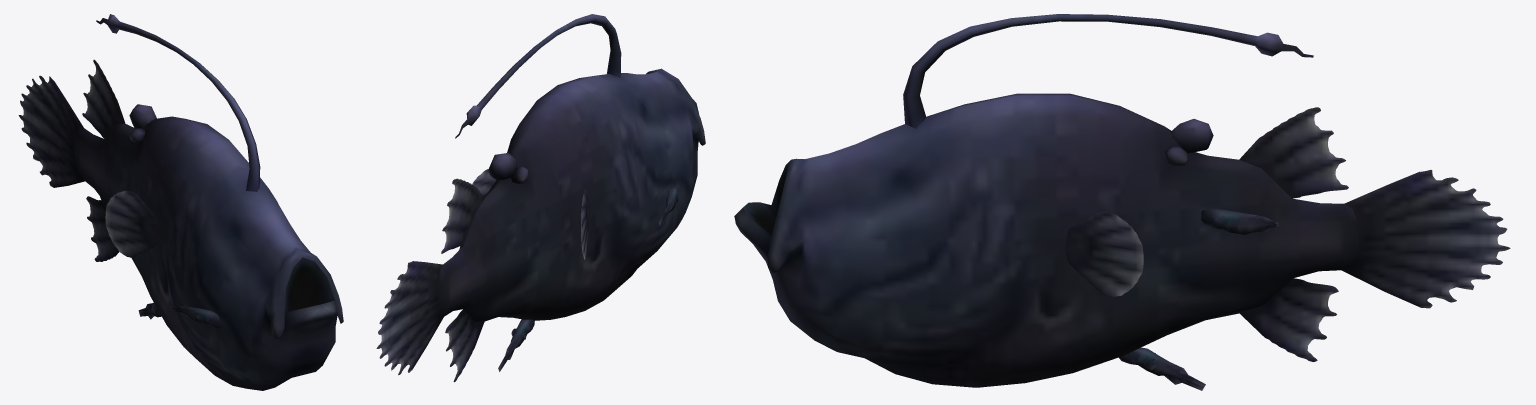
File: football-fish.glb
The picture shows the model from 3 angles, left to right: view 1: azimuth 30°, elevation 25°; view 2: azimuth 150°, elevation 25°; view 3: azimuth 270°, elevation 25°; orthographic projection. The views are drawn at different scales.
Bounding box in the file's own units: 2.32 × 5.29 × 10.02.
Materials: 1 (1 with a texture image).
